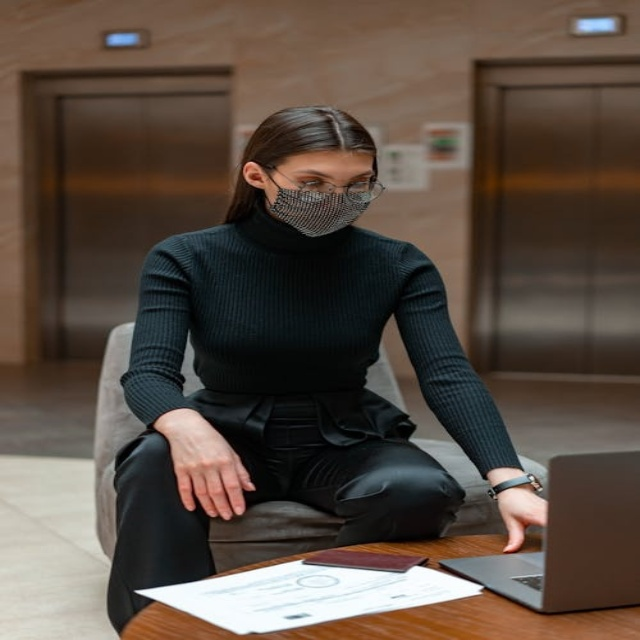Gafas: (265, 164, 386, 202)
Mascara: (262, 168, 380, 237)
Sin_guantes: (143, 404, 264, 519), (481, 466, 547, 560)
